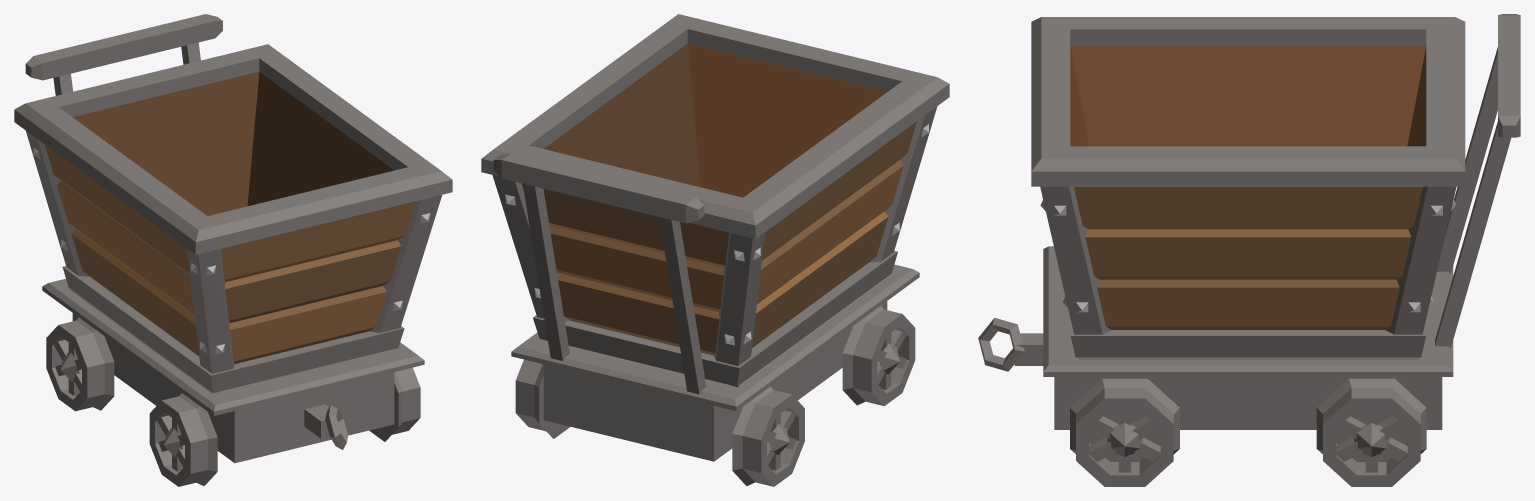
The model's file is mine-cart-94bd76.glb.
The picture shows the model from 3 angles, left to right: view 1: azimuth 30°, elevation 25°; view 2: azimuth 150°, elevation 25°; view 3: azimuth 270°, elevation 25°; orthographic projection. The views are drawn at different scales.
Visible parts, largest first — view 1: tub-matte, tub-metal, frame-metal, wheel-metal (×3); view 2: tub-matte, tub-metal, frame-metal, wheel-metal (×3); view 3: tub-matte, tub-metal, frame-metal, wheel-metal (×2).
Boxes of the visible parts, x1,y1,x2,y2 form: tub-matte: [45, 71, 415, 363]; tub-metal: [14, 44, 452, 392]; frame-metal: [25, 14, 424, 463]; wheel-metal (×3): [46, 317, 420, 486]; tub-matte: [521, 43, 916, 355]; tub-metal: [481, 14, 949, 386]; frame-metal: [493, 152, 919, 461]; wheel-metal (×3): [515, 306, 915, 486]; tub-matte: [1070, 45, 1426, 329]; tub-metal: [1031, 17, 1465, 357]; frame-metal: [978, 14, 1520, 429]; wheel-metal (×2): [1070, 378, 1426, 486].
Size of the model in its own units: 0.804 by 0.901 by 1.23.
